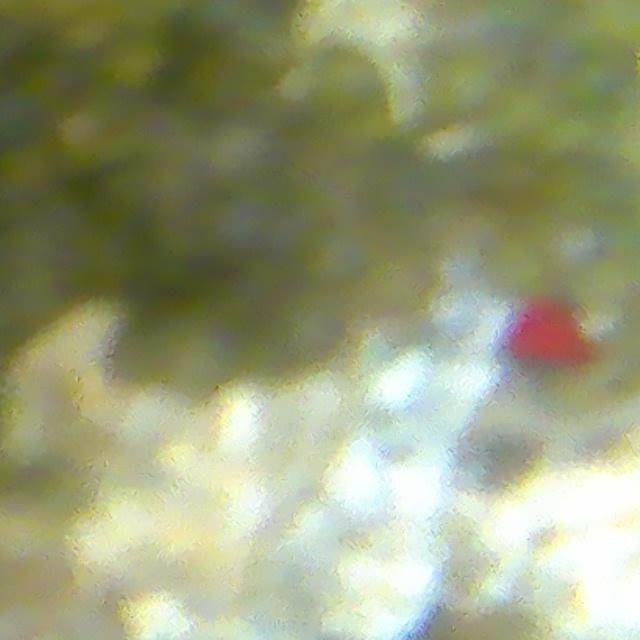SeaGrape: (103, 28, 174, 97), (201, 111, 276, 176)
